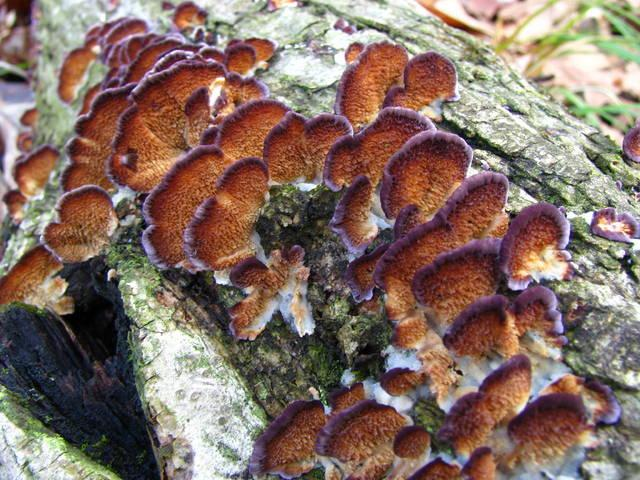Non-edible Mushroom: (0, 5, 623, 479)
